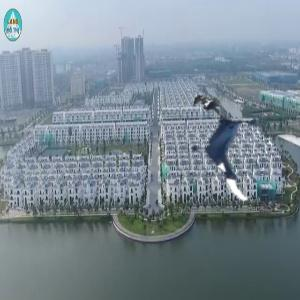drone: (184, 103, 282, 201)
